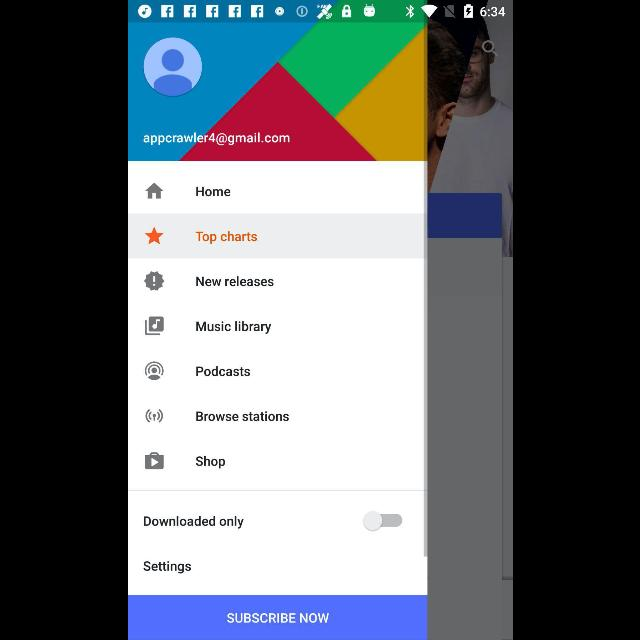icon: (142, 38, 202, 98), (144, 316, 164, 336), (144, 271, 164, 291), (144, 362, 164, 381), (144, 452, 164, 470), (144, 227, 164, 245), (144, 182, 164, 200), (482, 41, 498, 58)
image: (145, 409, 163, 423)
panel: (128, 22, 426, 640)
switch: (362, 510, 404, 532)
text: (143, 132, 290, 146), (143, 516, 243, 528), (196, 321, 270, 334), (195, 411, 288, 421), (195, 276, 273, 286), (195, 232, 257, 244), (142, 560, 190, 574), (195, 366, 249, 376), (195, 456, 225, 469), (196, 187, 230, 197)
textbutton: (128, 596, 426, 640)
uppertaskbar: (128, 1, 512, 23)
